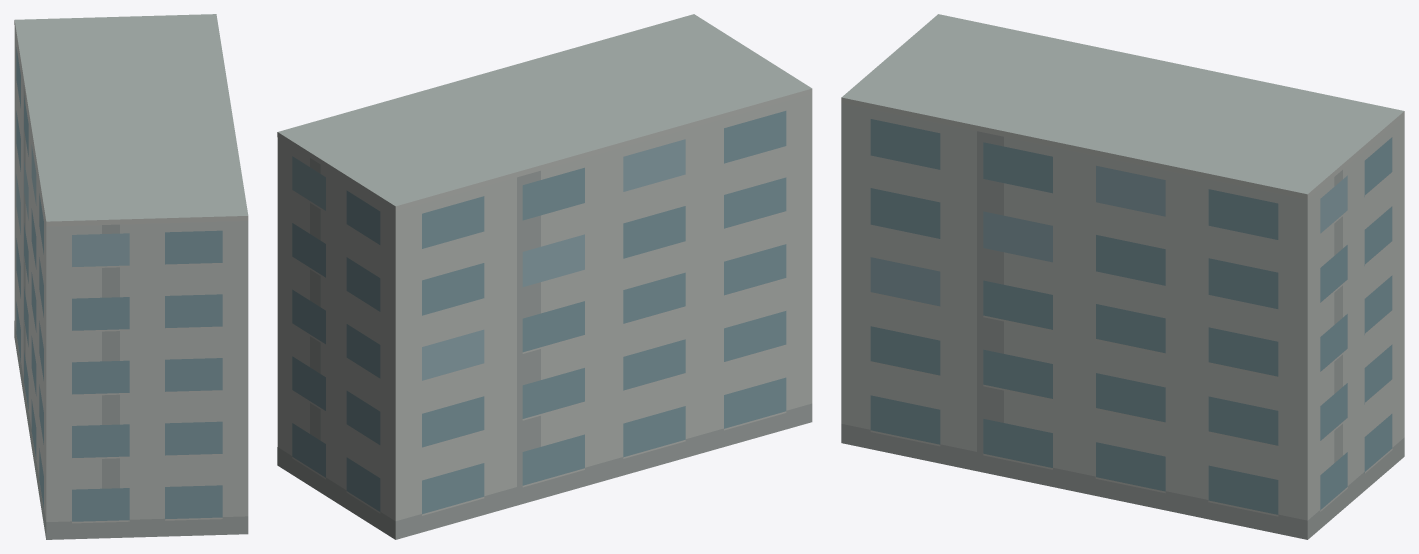
Rendered from residential-315f3349-d5d0-42de-add6-989e84750e6a.glb.
The picture shows the model from 3 angles, left to right: view 1: azimuth 30°, elevation 25°; view 2: azimuth 150°, elevation 25°; view 3: azimuth 270°, elevation 25°; orthographic projection. The views are drawn at different scales.
Visible parts, largest first — view 1: residential-315f3349-d5d0-42de-add6-989e84750e6a.tmp; view 2: residential-315f3349-d5d0-42de-add6-989e84750e6a.tmp; view 3: residential-315f3349-d5d0-42de-add6-989e84750e6a.tmp.
Boxes of the visible parts, box(x1,y1,x2,y2) form: residential-315f3349-d5d0-42de-add6-989e84750e6a.tmp: box(14, 14, 248, 539); residential-315f3349-d5d0-42de-add6-989e84750e6a.tmp: box(277, 14, 812, 539); residential-315f3349-d5d0-42de-add6-989e84750e6a.tmp: box(841, 14, 1404, 539).
Bounding box in the file's own units: 17.07 × 15.25 × 22.53.
